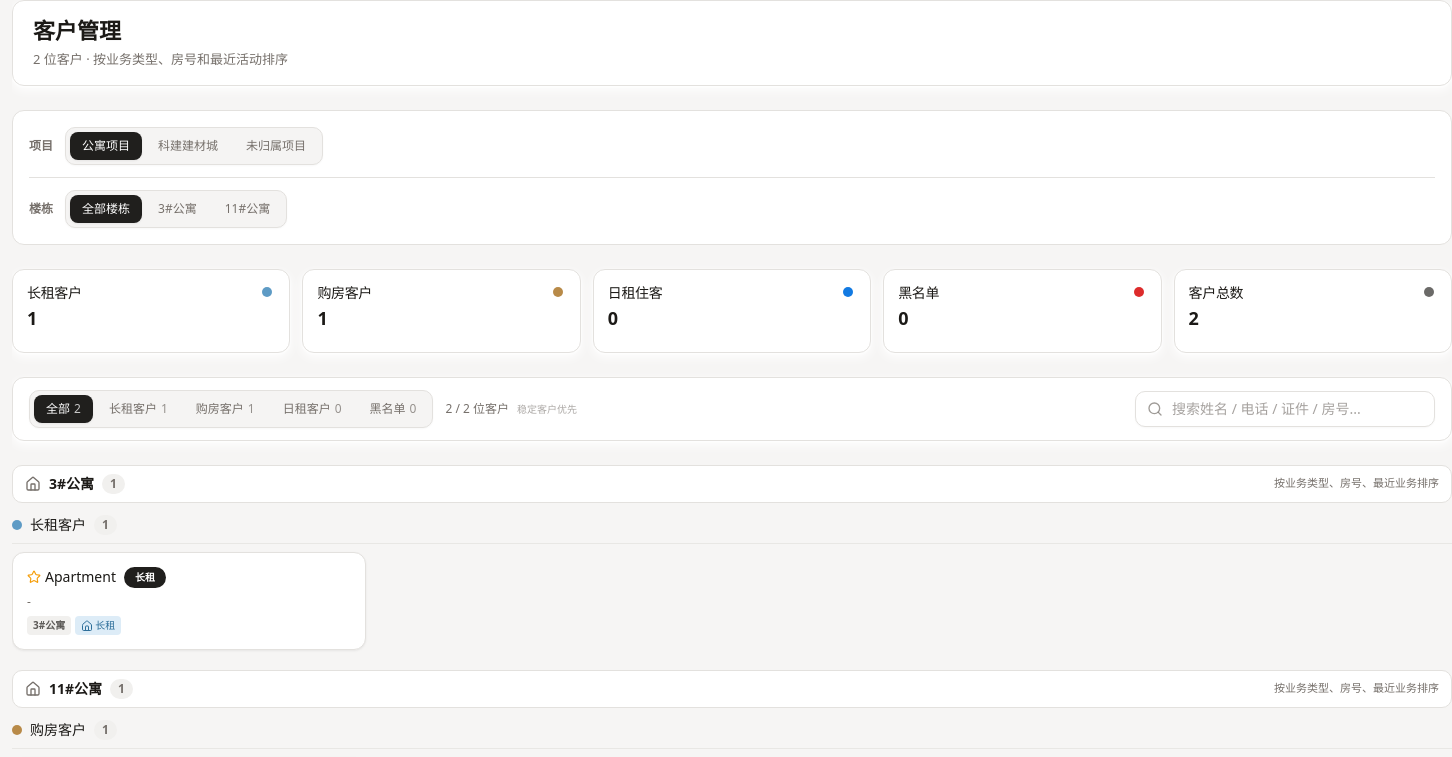
switches projects, resets a stale building and keeps shared customers
This screenshot has width=1452, height=757.
Step 1. Click the button "3#公寓" → point(177, 208), box [146,194,209,222]
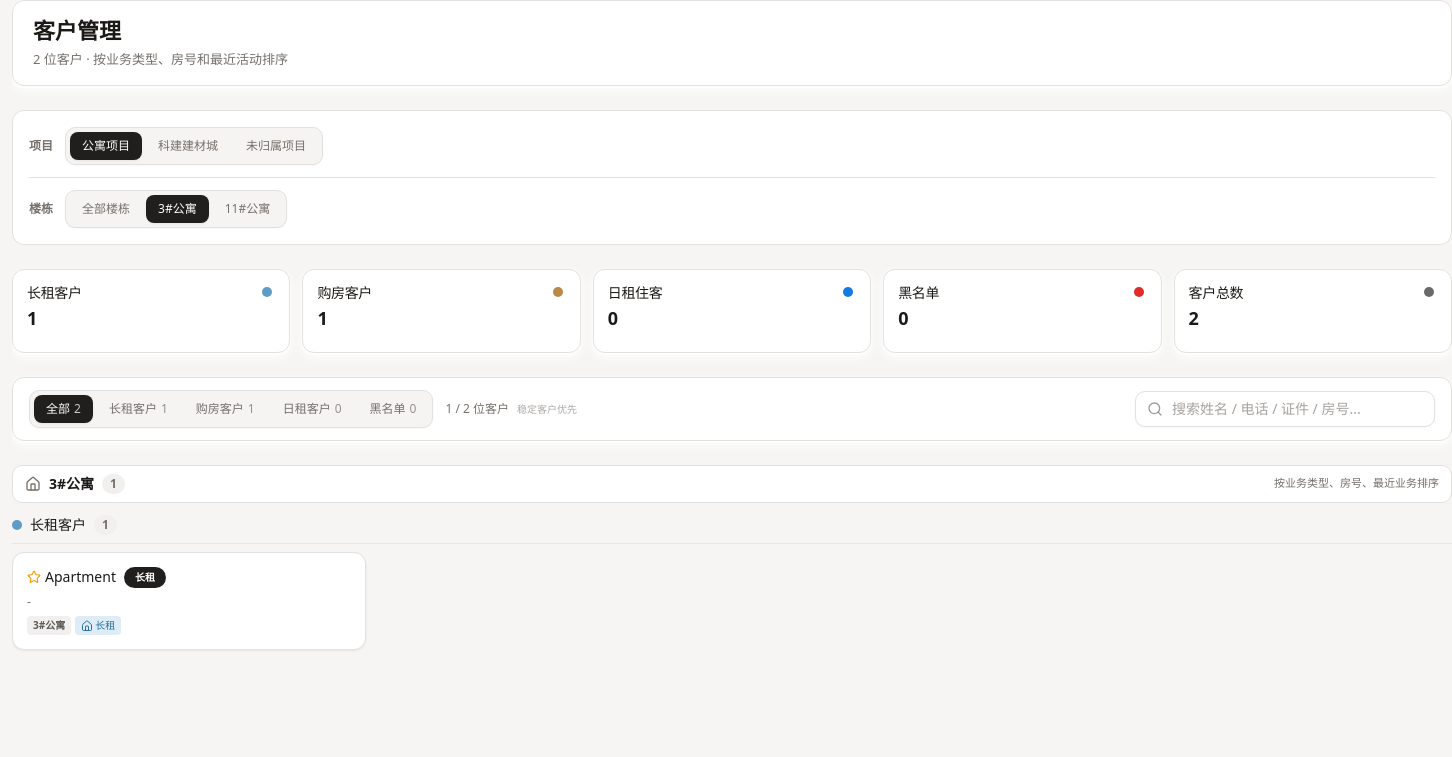
Result: the text "1 / 2 位客户" is shown at [446,400,509,416]
Step 2. Click the button "科建建材城" → point(188, 146), box [146,132,230,160]
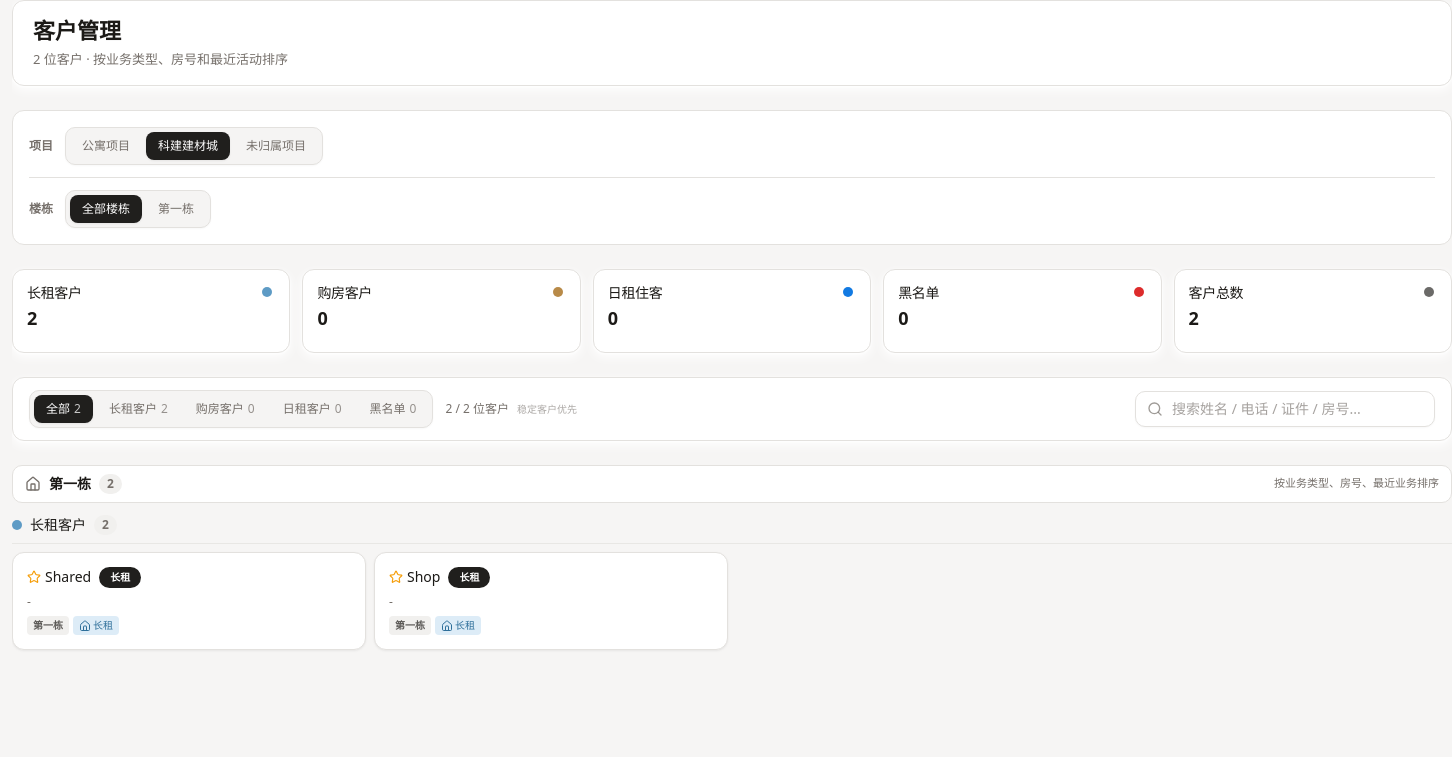
Result: the text "Shop" is shown at [389,566,440,586]
Result: the text "Shared" is shown at [27,566,91,586]
Result: the text "Apartment" is gone
